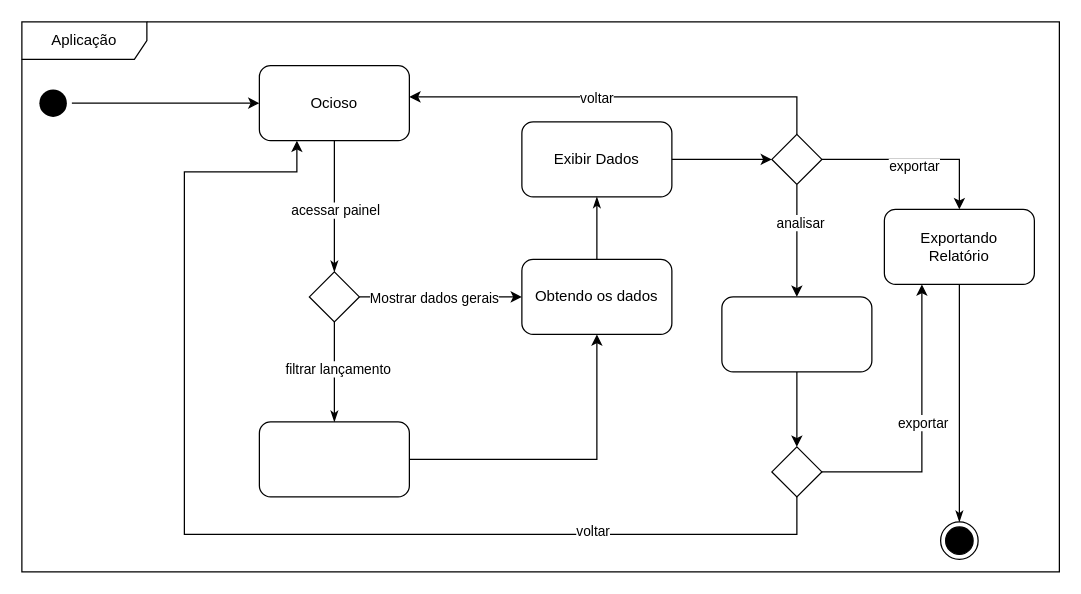
Some shapes in this 1081 by 594 pixel diagram are drawn without their labels. Here are the shapes that lost their labels. From the top down, the box of each, then its label:
(721, 296, 872, 372): Analisando Dados
(258, 421, 409, 497): Aguardando usuário
